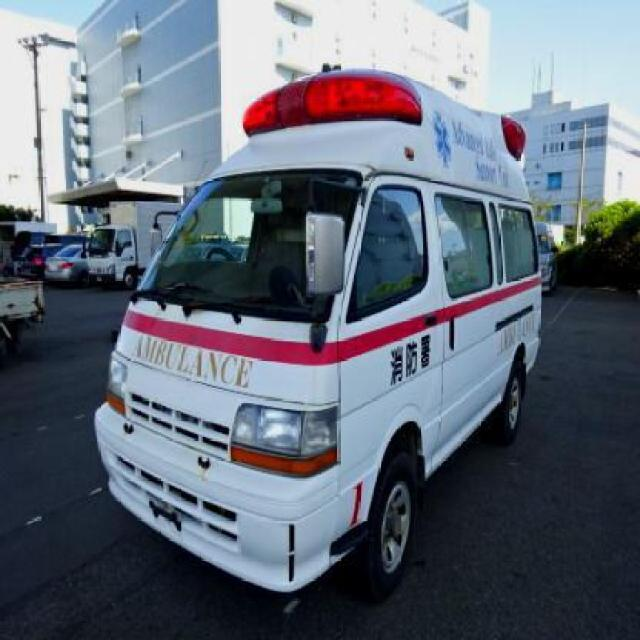Ambulance: (99, 79, 572, 562)
